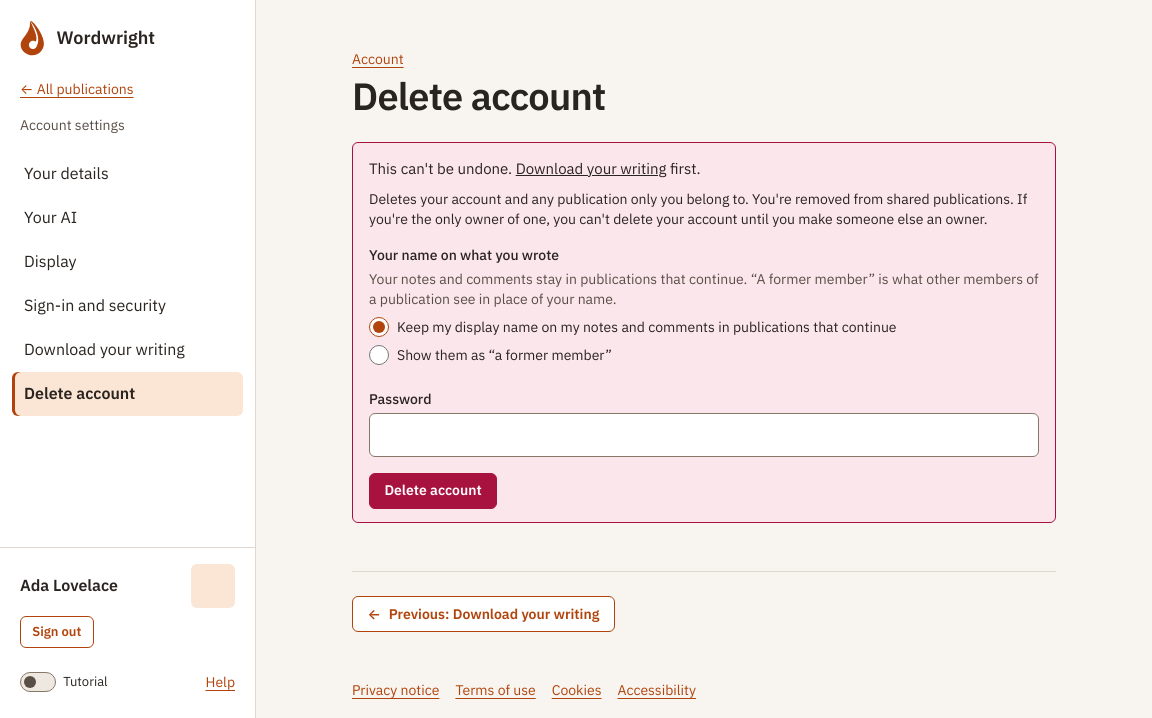
Test: AccountView › closes the confirmation and shows the problem if the deletion is refused
In the password field labelled "Password": (704, 435) [369,413,1039,457], type "wrong"
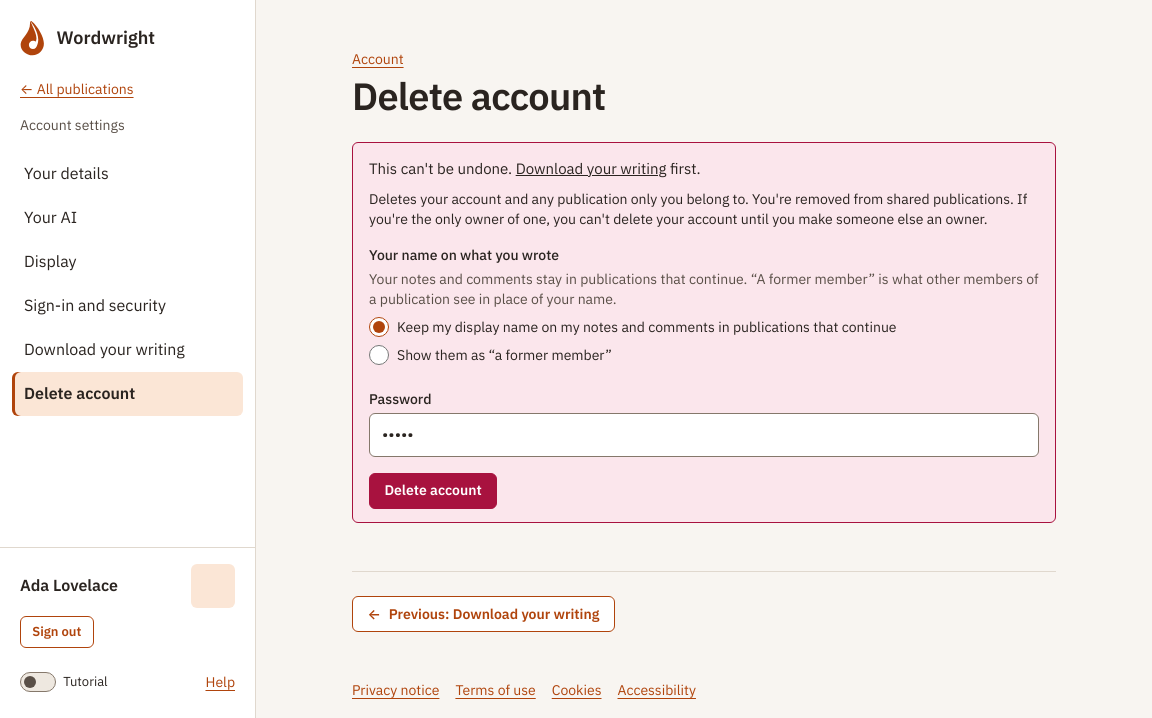
Click the button "Delete account": (433, 491) [369,473,497,509]
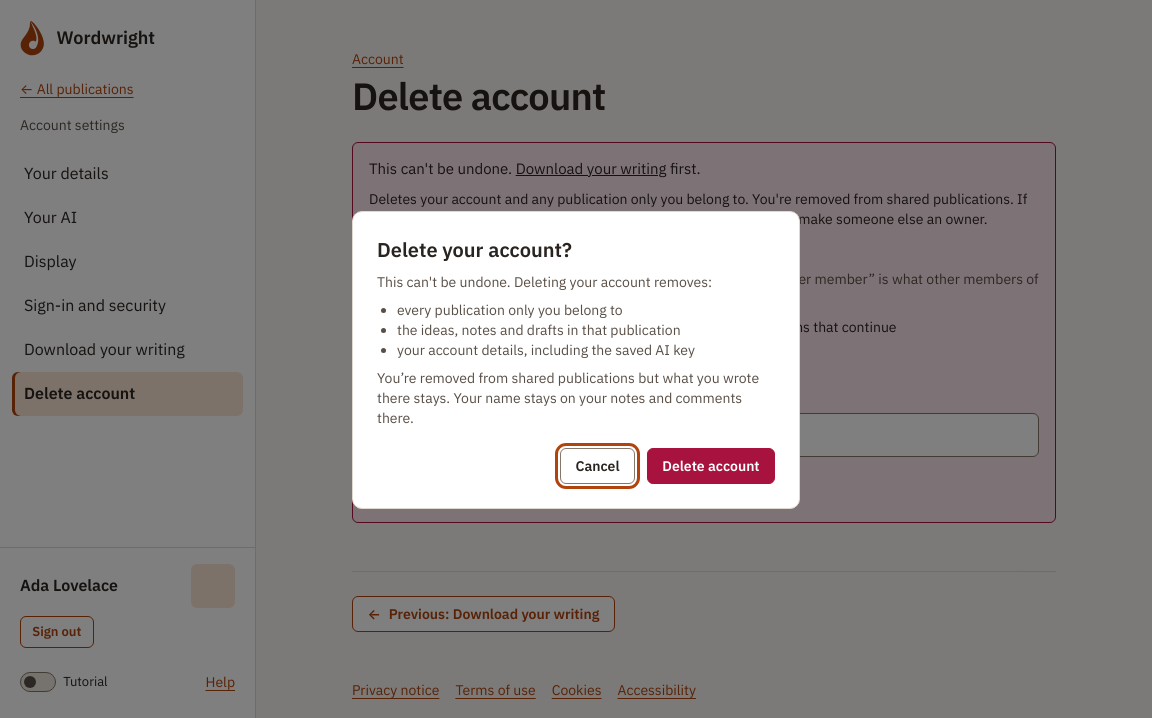
Click the button "Delete account": (711, 466) [647,448,775,484]
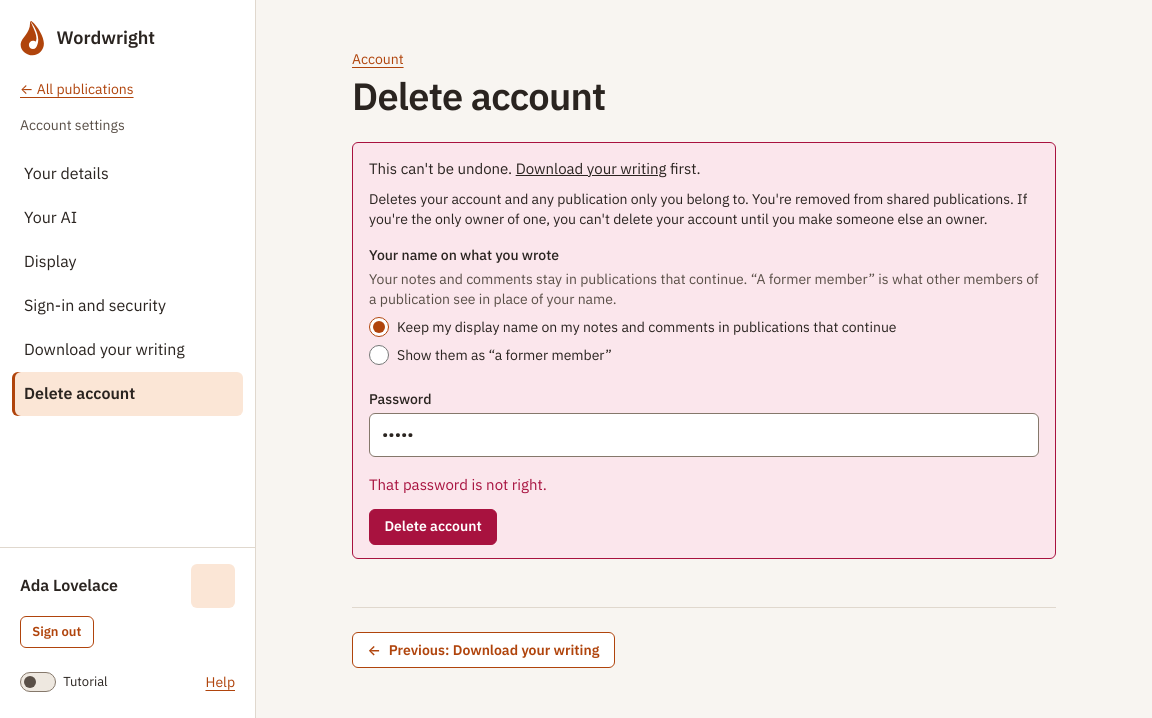
Expected: the message shows "password", [369,475,547,494]
Expected: the dialog is gone
